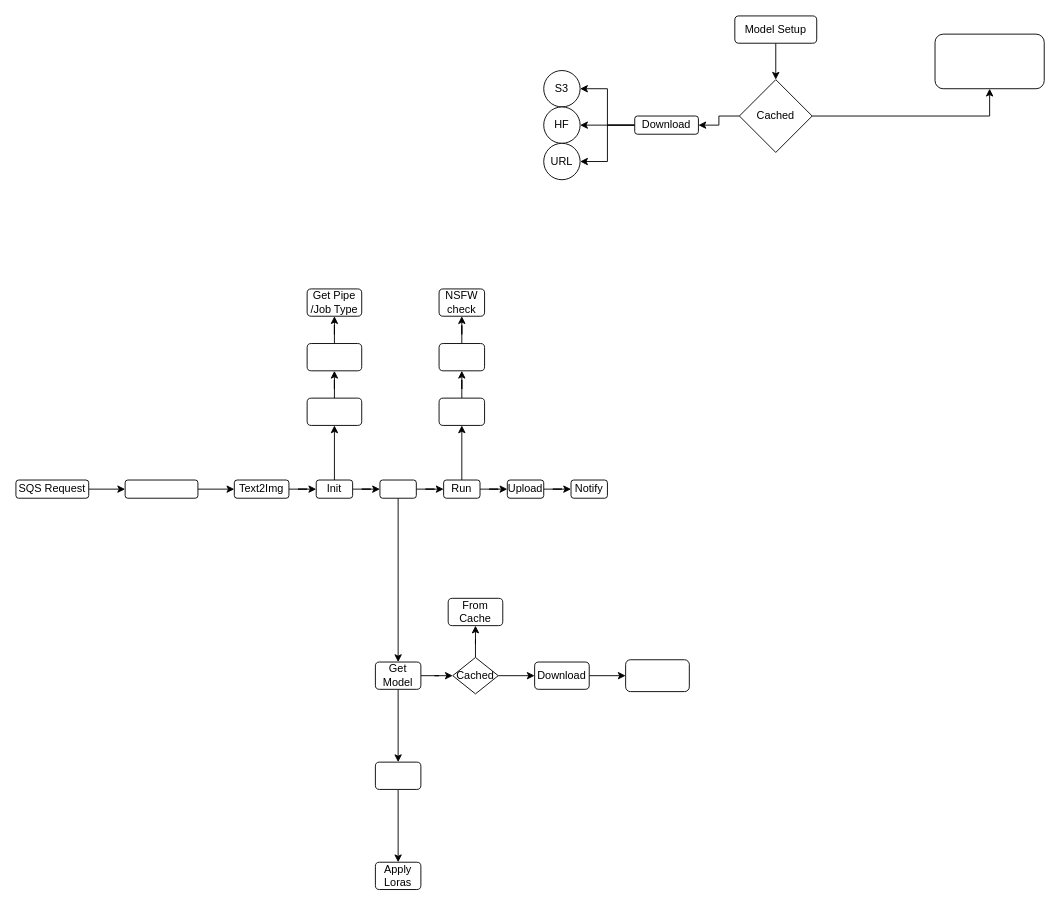
The diagram is 1060 pixels wide and 905 high, and some of its shapes have lost their labels. The shapes that lost their labels are listed below. From the top down, each one's centre as x and y in pixels, then its label:
At pixel 989 61: "Model Cache".
At pixel 334 357: "Task Globals".
At pixel 461 357: "Run Model".
At pixel 334 411: "Decode Params".
At pixel 461 411: "Get Args".
At pixel 161 488: "Decide Task".
At pixel 397 488: "Setup".
At pixel 657 675: "Load from disk".
At pixel 397 775: "Wrap".
